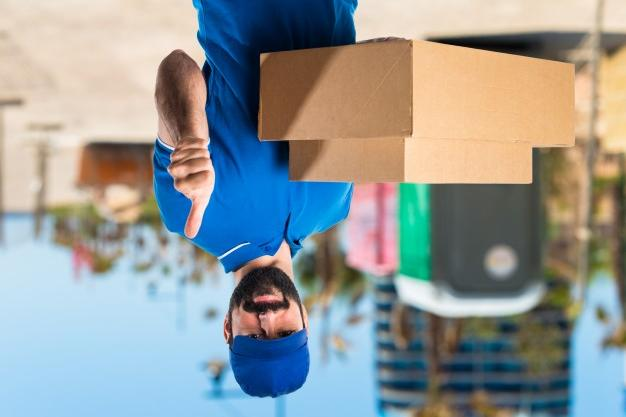thumbsdown: (167, 136, 215, 239)
